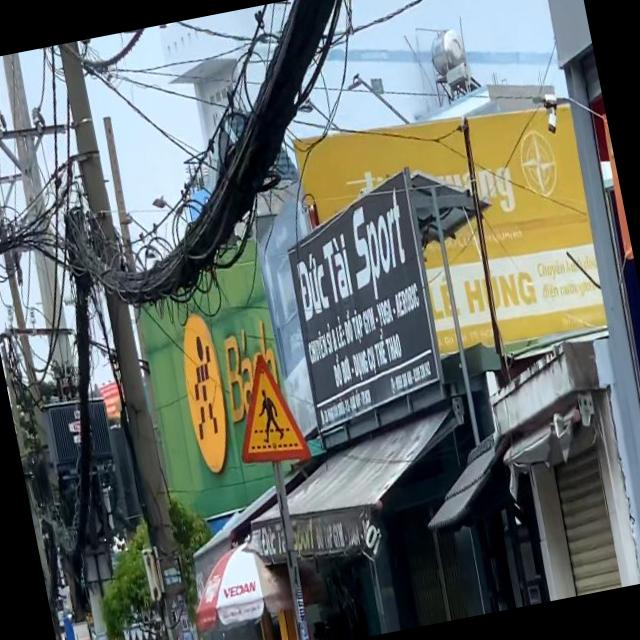W-224: (224, 348, 312, 472)
